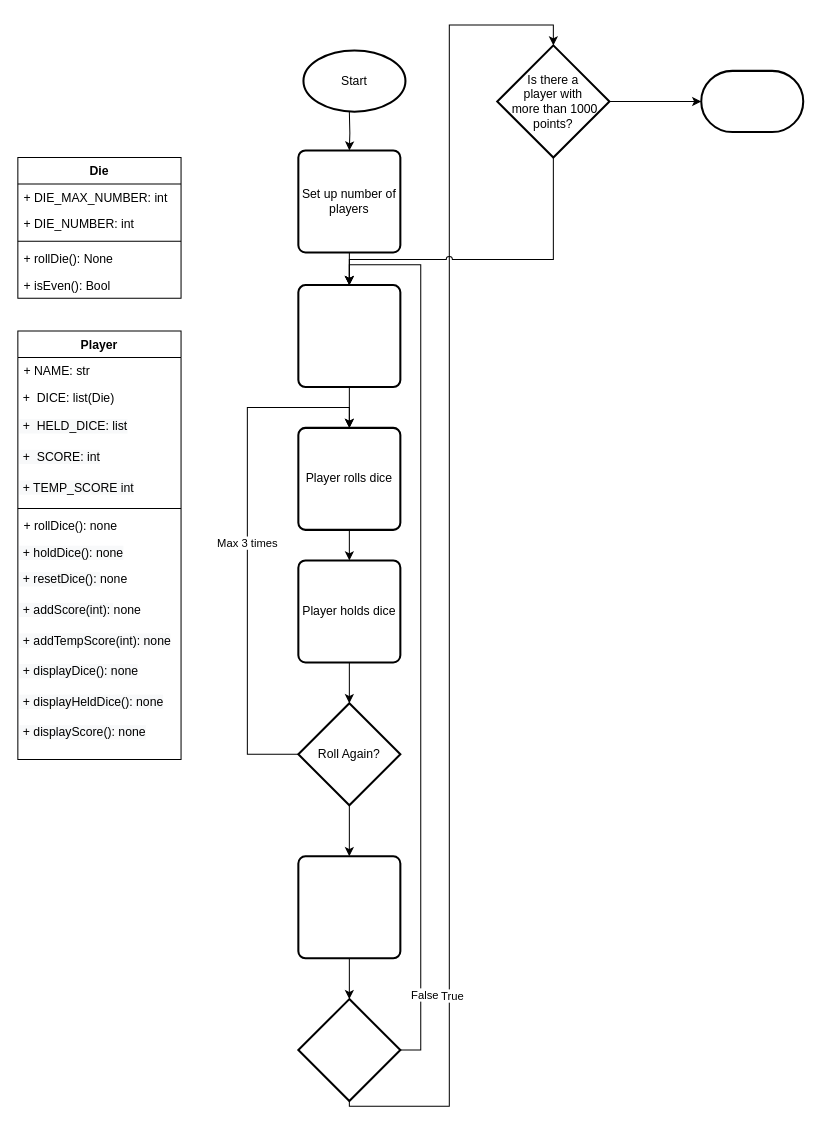
This 822x1132 diagram has some shape labels left out. The shapes that lost their labels are listed below. From the top down, each one's centre as x and y in pixels, then its label:
At point 752,101: "End".
At point 349,336: "For each player".
At point 349,907: "Save score".
At point 349,1050: "All players played their turn".
